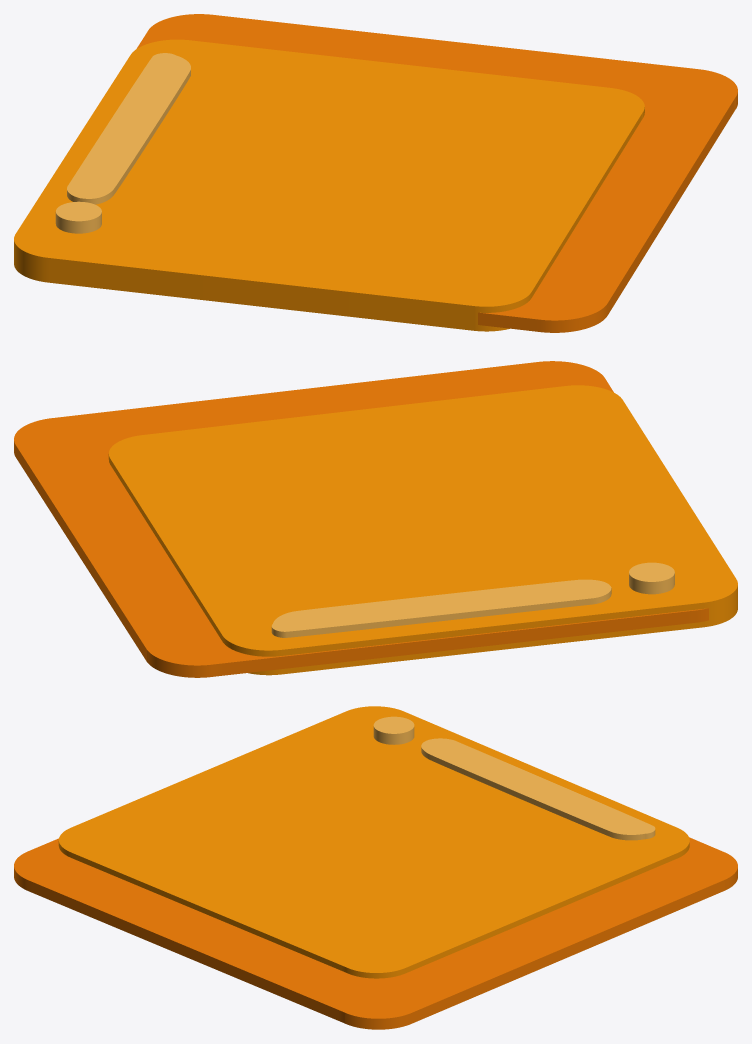
File: emoji_u1f538.glb
3 renders of one model, top to bottom at view 1: azimuth 30°, elevation 25°; view 2: azimuth 150°, elevation 25°; view 3: azimuth 270°, elevation 25°, orthographic. The views are drawn at different scales.
Parts seen in each view (by area): view 1: emoji_u1f538; view 2: emoji_u1f538; view 3: emoji_u1f538.
Boxes of the visible parts, x1=… form: emoji_u1f538: x1=14, y1=14, x2=737, y2=332; emoji_u1f538: x1=14, y1=361, x2=737, y2=677; emoji_u1f538: x1=14, y1=706, x2=737, y2=1029.
Bounding box in the file's own units: 0.012 × 0.0008 × 0.012.
